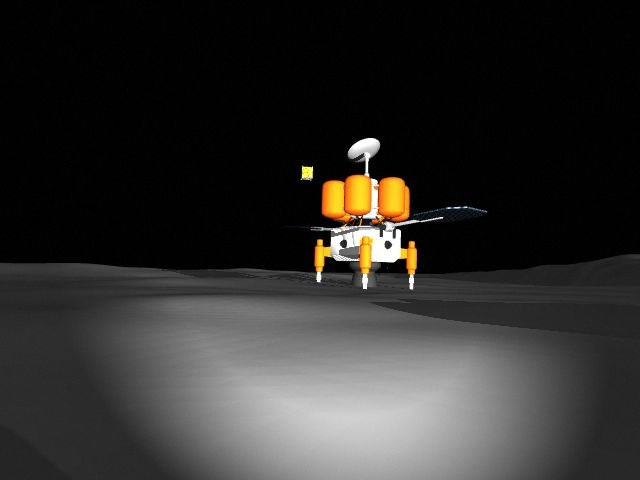cubesat: (295, 163, 318, 183)
